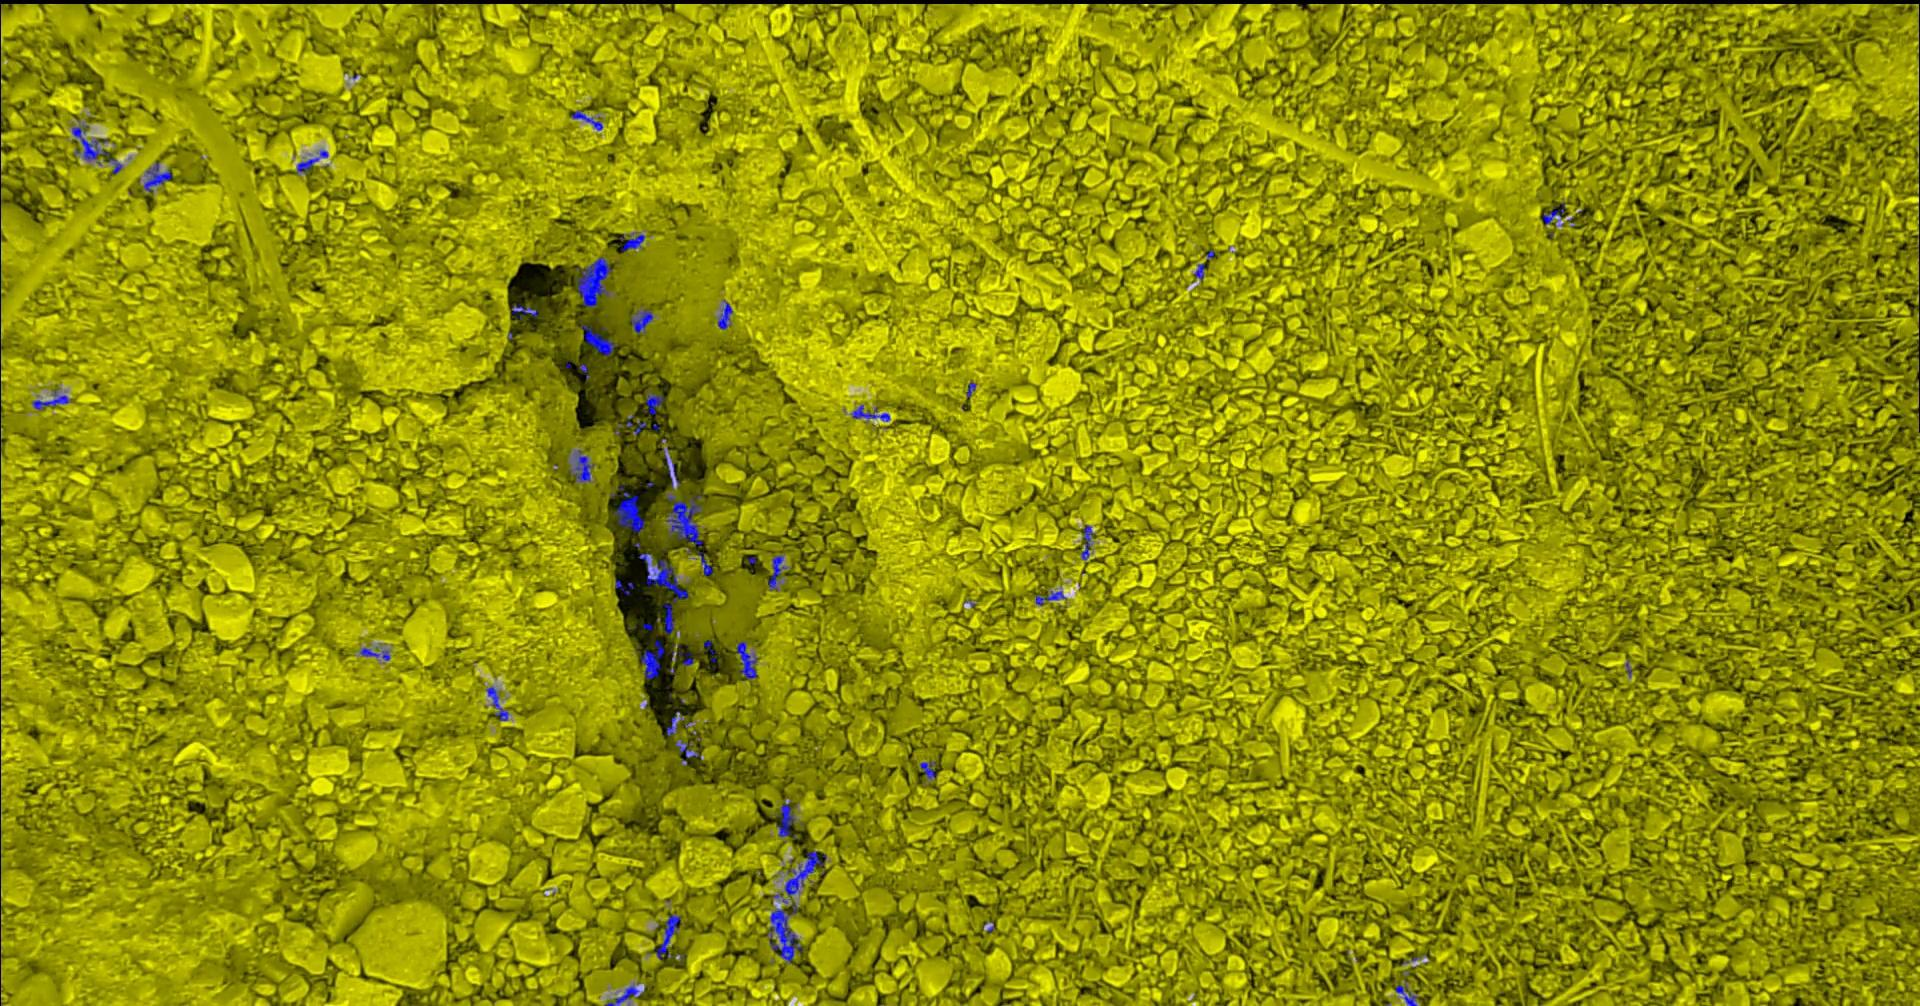ant: (637, 553, 688, 603), (71, 123, 122, 173), (665, 493, 703, 546), (577, 257, 611, 306), (613, 485, 644, 532), (653, 915, 681, 959), (579, 323, 615, 354), (639, 639, 664, 678), (660, 438, 679, 486), (30, 387, 70, 409), (143, 161, 171, 191), (775, 801, 795, 841), (603, 984, 643, 1005), (569, 448, 593, 481), (485, 686, 508, 720), (737, 640, 757, 678), (295, 150, 328, 173), (767, 555, 787, 589), (674, 738, 700, 765), (851, 404, 889, 420), (662, 602, 681, 635), (571, 109, 602, 130), (631, 309, 653, 333), (1394, 983, 1418, 1005), (1542, 202, 1564, 224), (618, 232, 644, 251), (1079, 525, 1093, 559), (1035, 589, 1065, 605), (644, 390, 663, 414), (717, 298, 731, 329), (359, 647, 389, 661), (510, 304, 537, 319), (697, 551, 712, 575), (702, 639, 715, 662), (919, 760, 935, 779), (615, 579, 632, 594), (1192, 262, 1205, 279), (665, 716, 677, 735), (678, 652, 693, 666)
